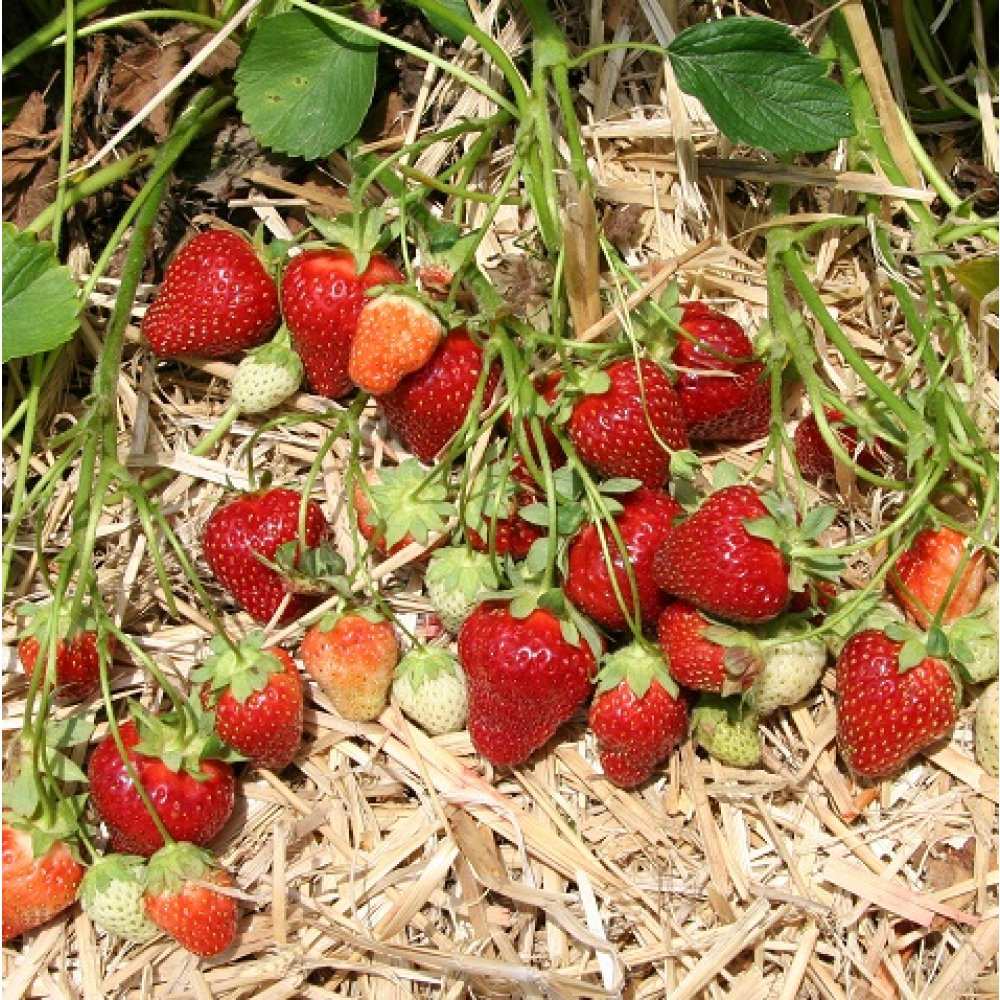ripe_strawberry: (458, 584, 601, 773), (647, 480, 809, 626), (87, 707, 242, 856), (276, 237, 412, 400), (636, 295, 781, 447), (559, 483, 693, 641), (201, 482, 338, 632), (140, 224, 284, 366), (831, 626, 961, 781), (562, 351, 699, 491), (590, 639, 692, 791), (199, 641, 311, 776), (1, 812, 91, 945), (14, 600, 120, 706), (656, 595, 765, 694), (148, 841, 240, 958), (467, 452, 555, 564), (888, 522, 987, 620), (787, 402, 884, 484)
unripe_strawberry: (346, 282, 449, 397), (305, 608, 402, 727), (354, 467, 447, 559), (743, 620, 827, 718), (389, 640, 471, 740), (78, 852, 161, 945), (423, 544, 498, 638), (689, 694, 769, 769), (229, 340, 305, 417), (944, 621, 996, 689), (971, 679, 1000, 783)
